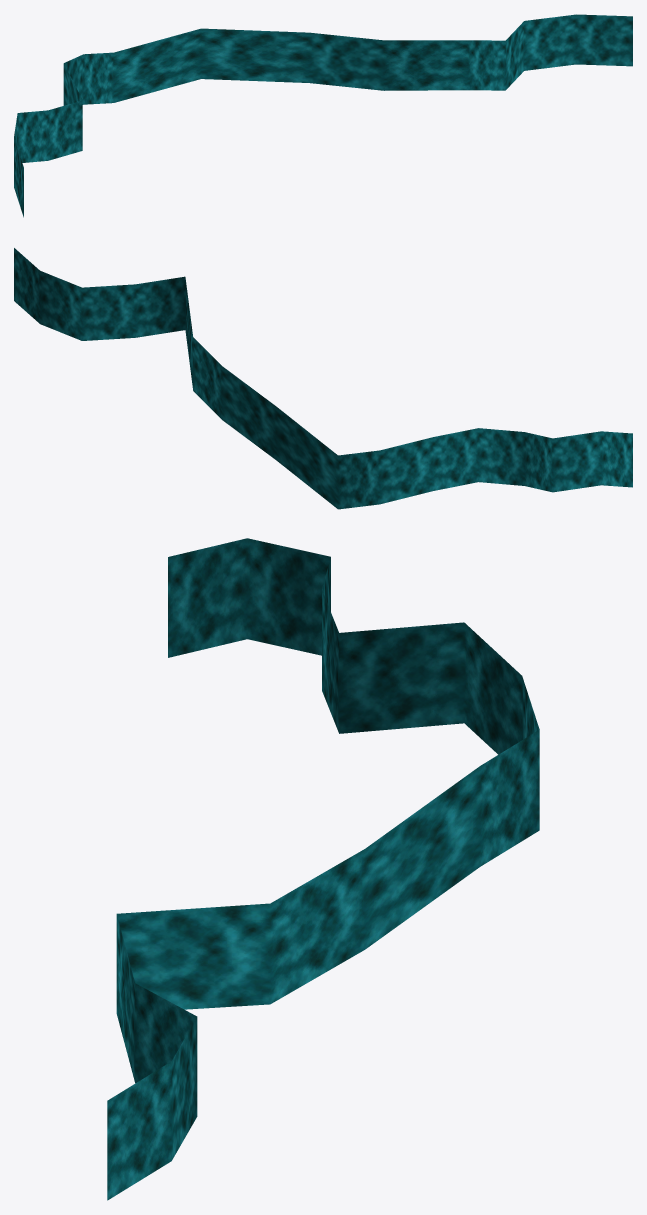
Rendered from MIRKWOOD_FOGJ.fbx.
3 renders of one model, top to bottom at view 1: azimuth 30°, elevation 25°; view 2: azimuth 150°, elevation 25°; view 3: azimuth 270°, elevation 25°, orthographic. The views are drawn at different scales.
Parts seen in each view (by area): view 1: MIRKWOOD_FOGJ; view 2: MIRKWOOD_FOGJ; view 3: MIRKWOOD_FOGJ.
Part boxes in pixels (x1,y1,x2,y2): MIRKWOOD_FOGJ: [14, 14, 632, 217]; MIRKWOOD_FOGJ: [14, 248, 632, 509]; MIRKWOOD_FOGJ: [107, 538, 539, 1200].
Size of the model in its own units: 1020462 by 135508 by 321696.
1 material, 1 textured.
